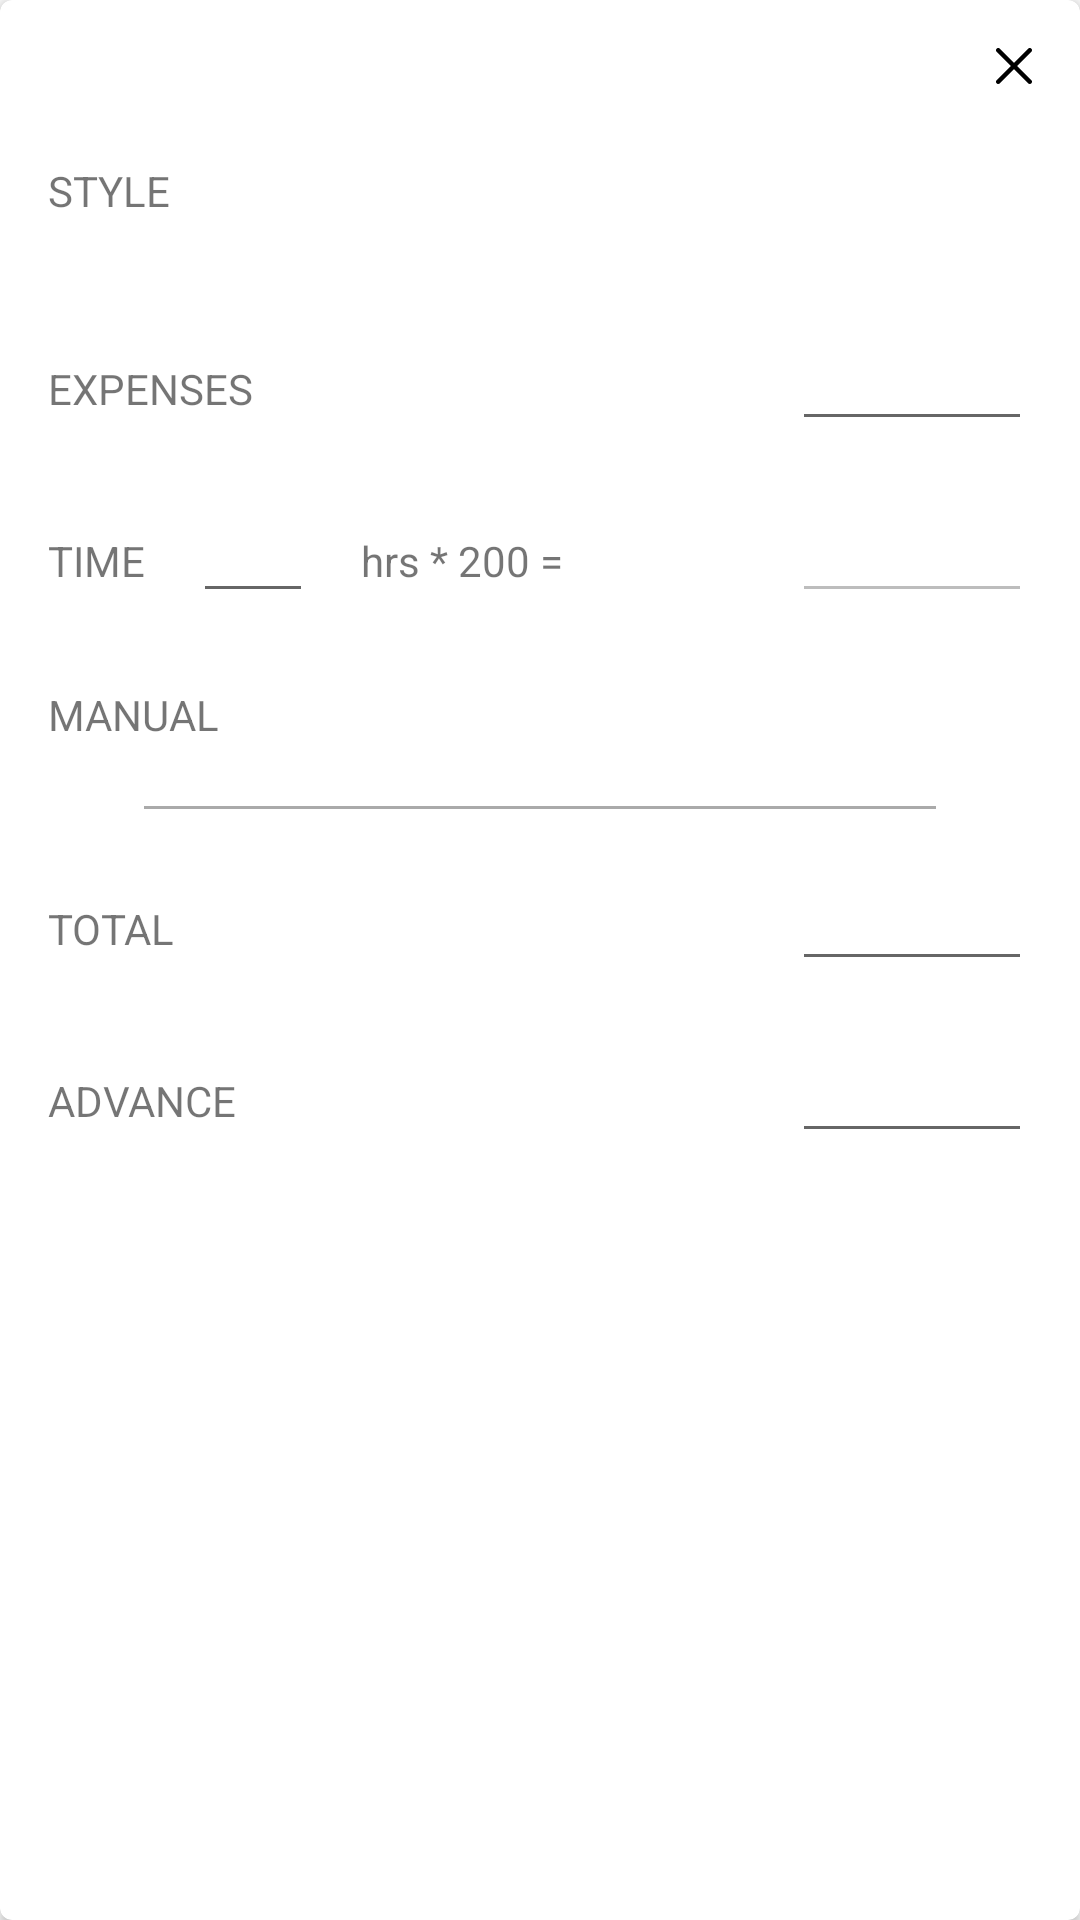

Screen size 1080x1920. Icon name, then its box in pixels as {"left": x1, "top": y1, "right": x2, "bottom": y2}:
close: {"left": 996, "top": 48, "right": 1032, "bottom": 84}
